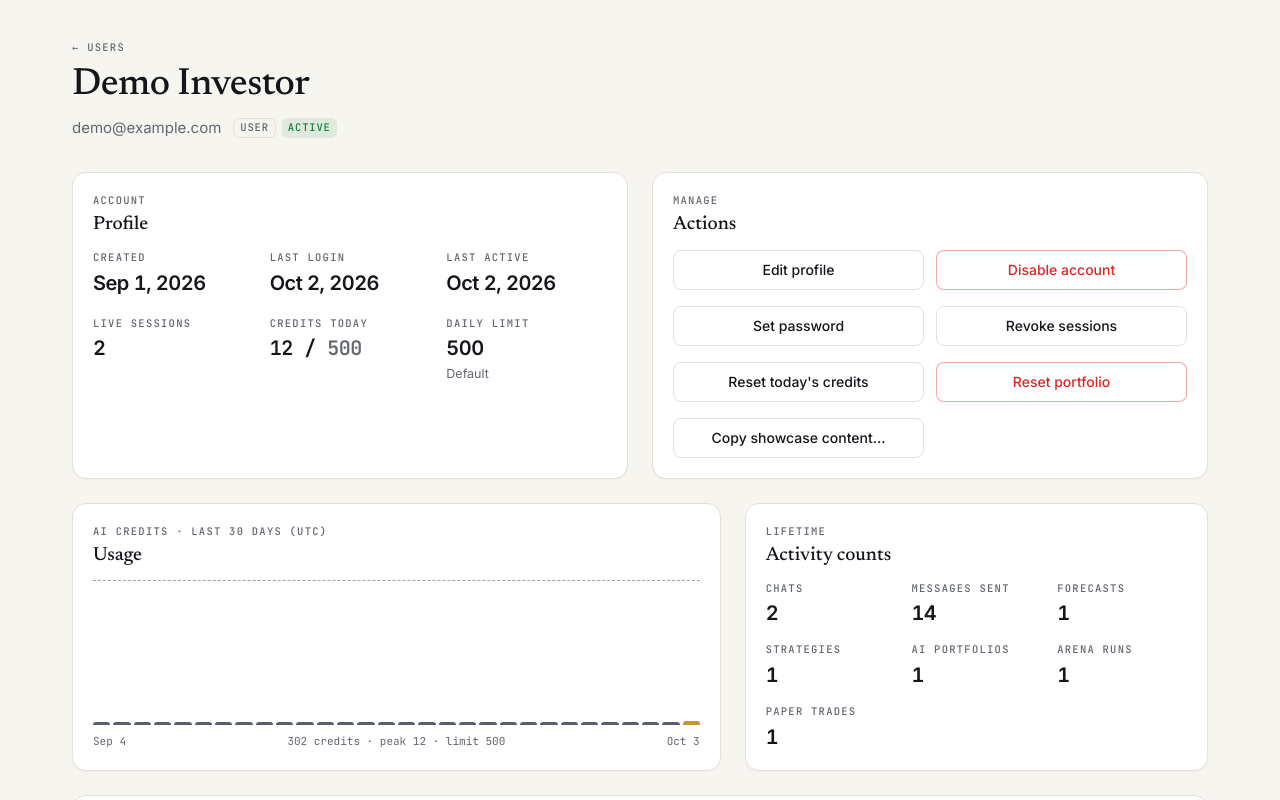
UserDetailPage › disables only after confirming, then applies the returned user
The image size is (1280, 800).
Click the button "Disable account": click(1062, 270) x1=936 y1=250 x2=1187 y2=290
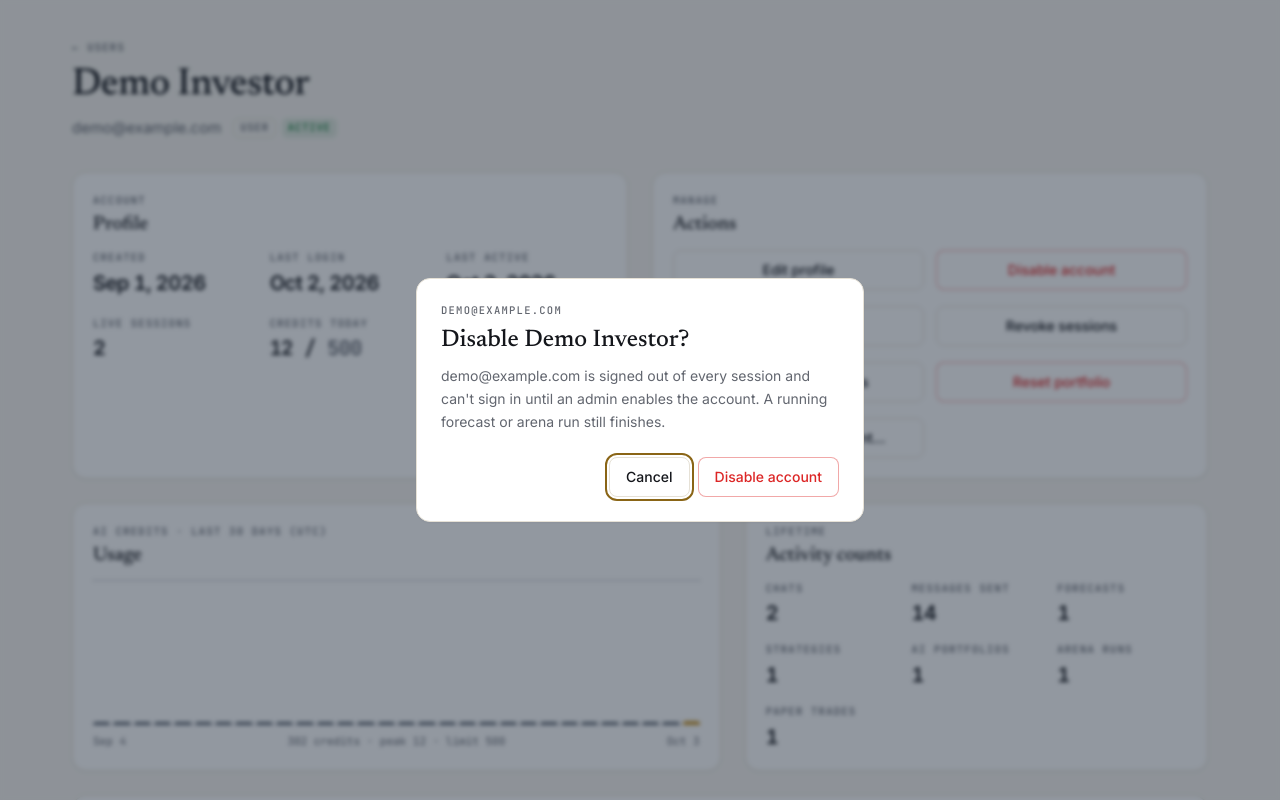
Expected: the dialog "Disable Demo Investor?" shows "can't sign in until an admin enables the account", x1=441 y1=367 x2=827 y2=430
Click the button "Disable account": click(768, 478) x1=698 y1=458 x2=839 y2=498
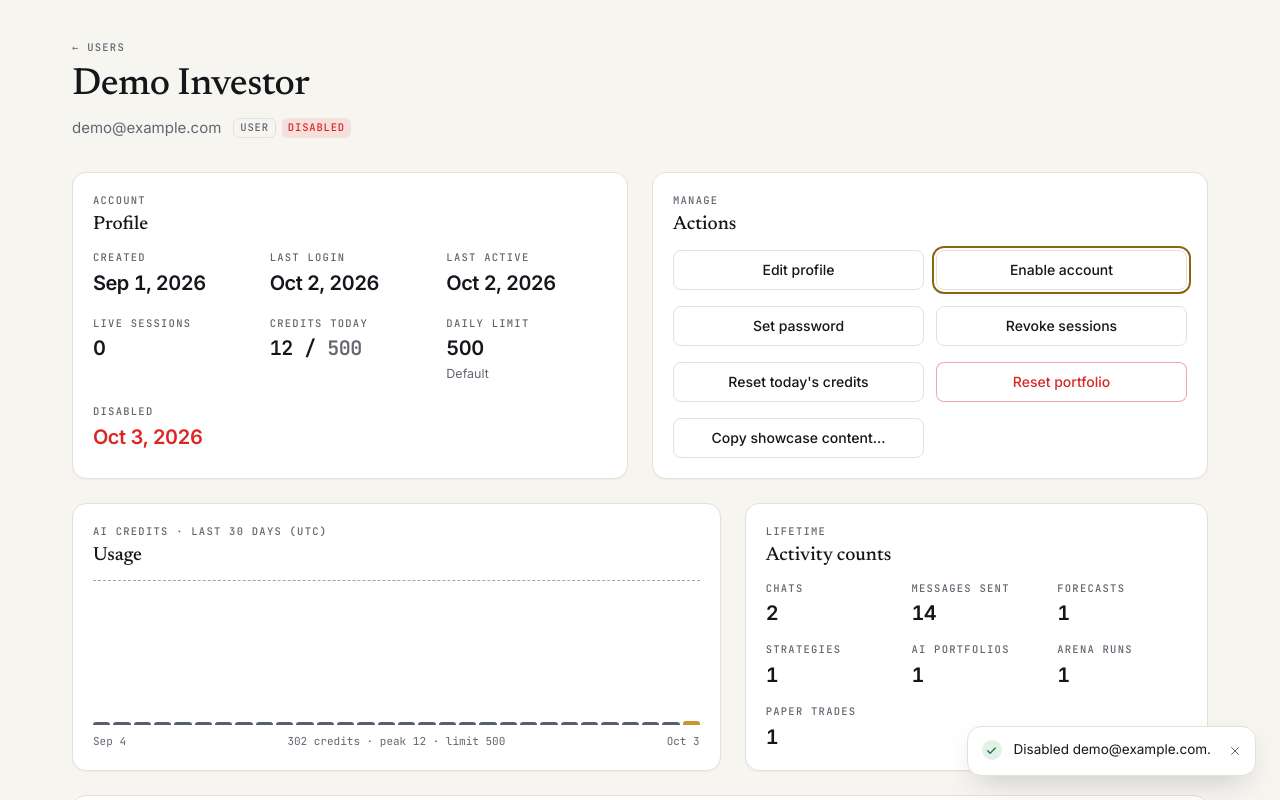
Expected: the text "Disabled demo@example.com." is shown, x1=1014 y1=739 x2=1211 y2=760
Expected: the button "Enable account" is shown, x1=936 y1=250 x2=1187 y2=290
